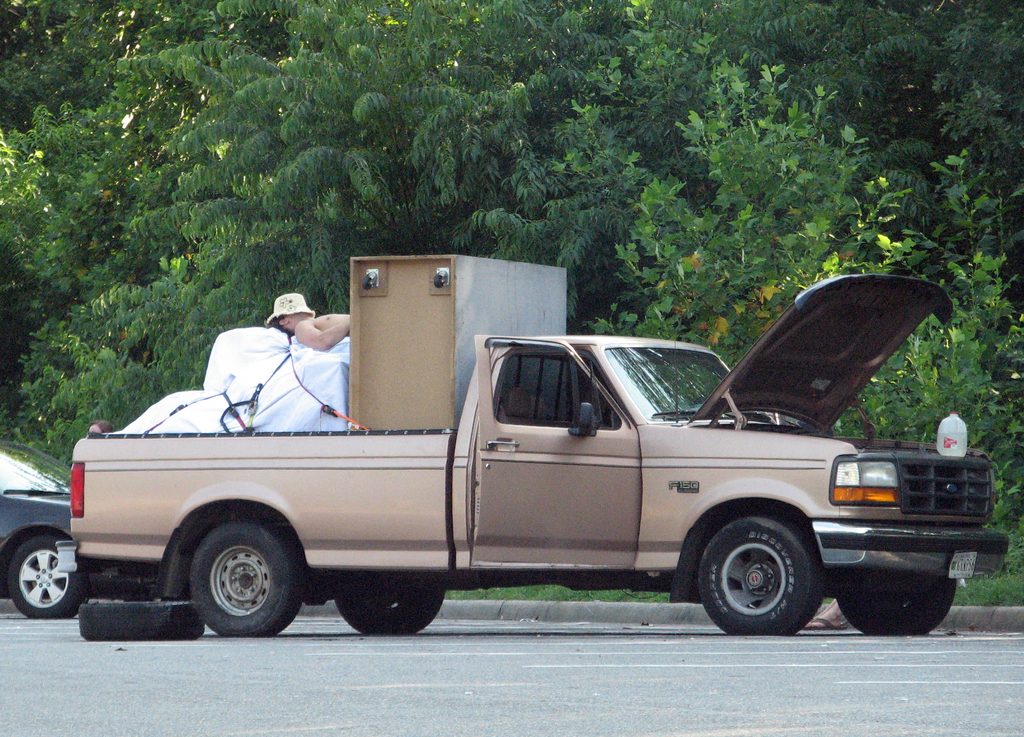Person: (264, 293, 349, 351)
